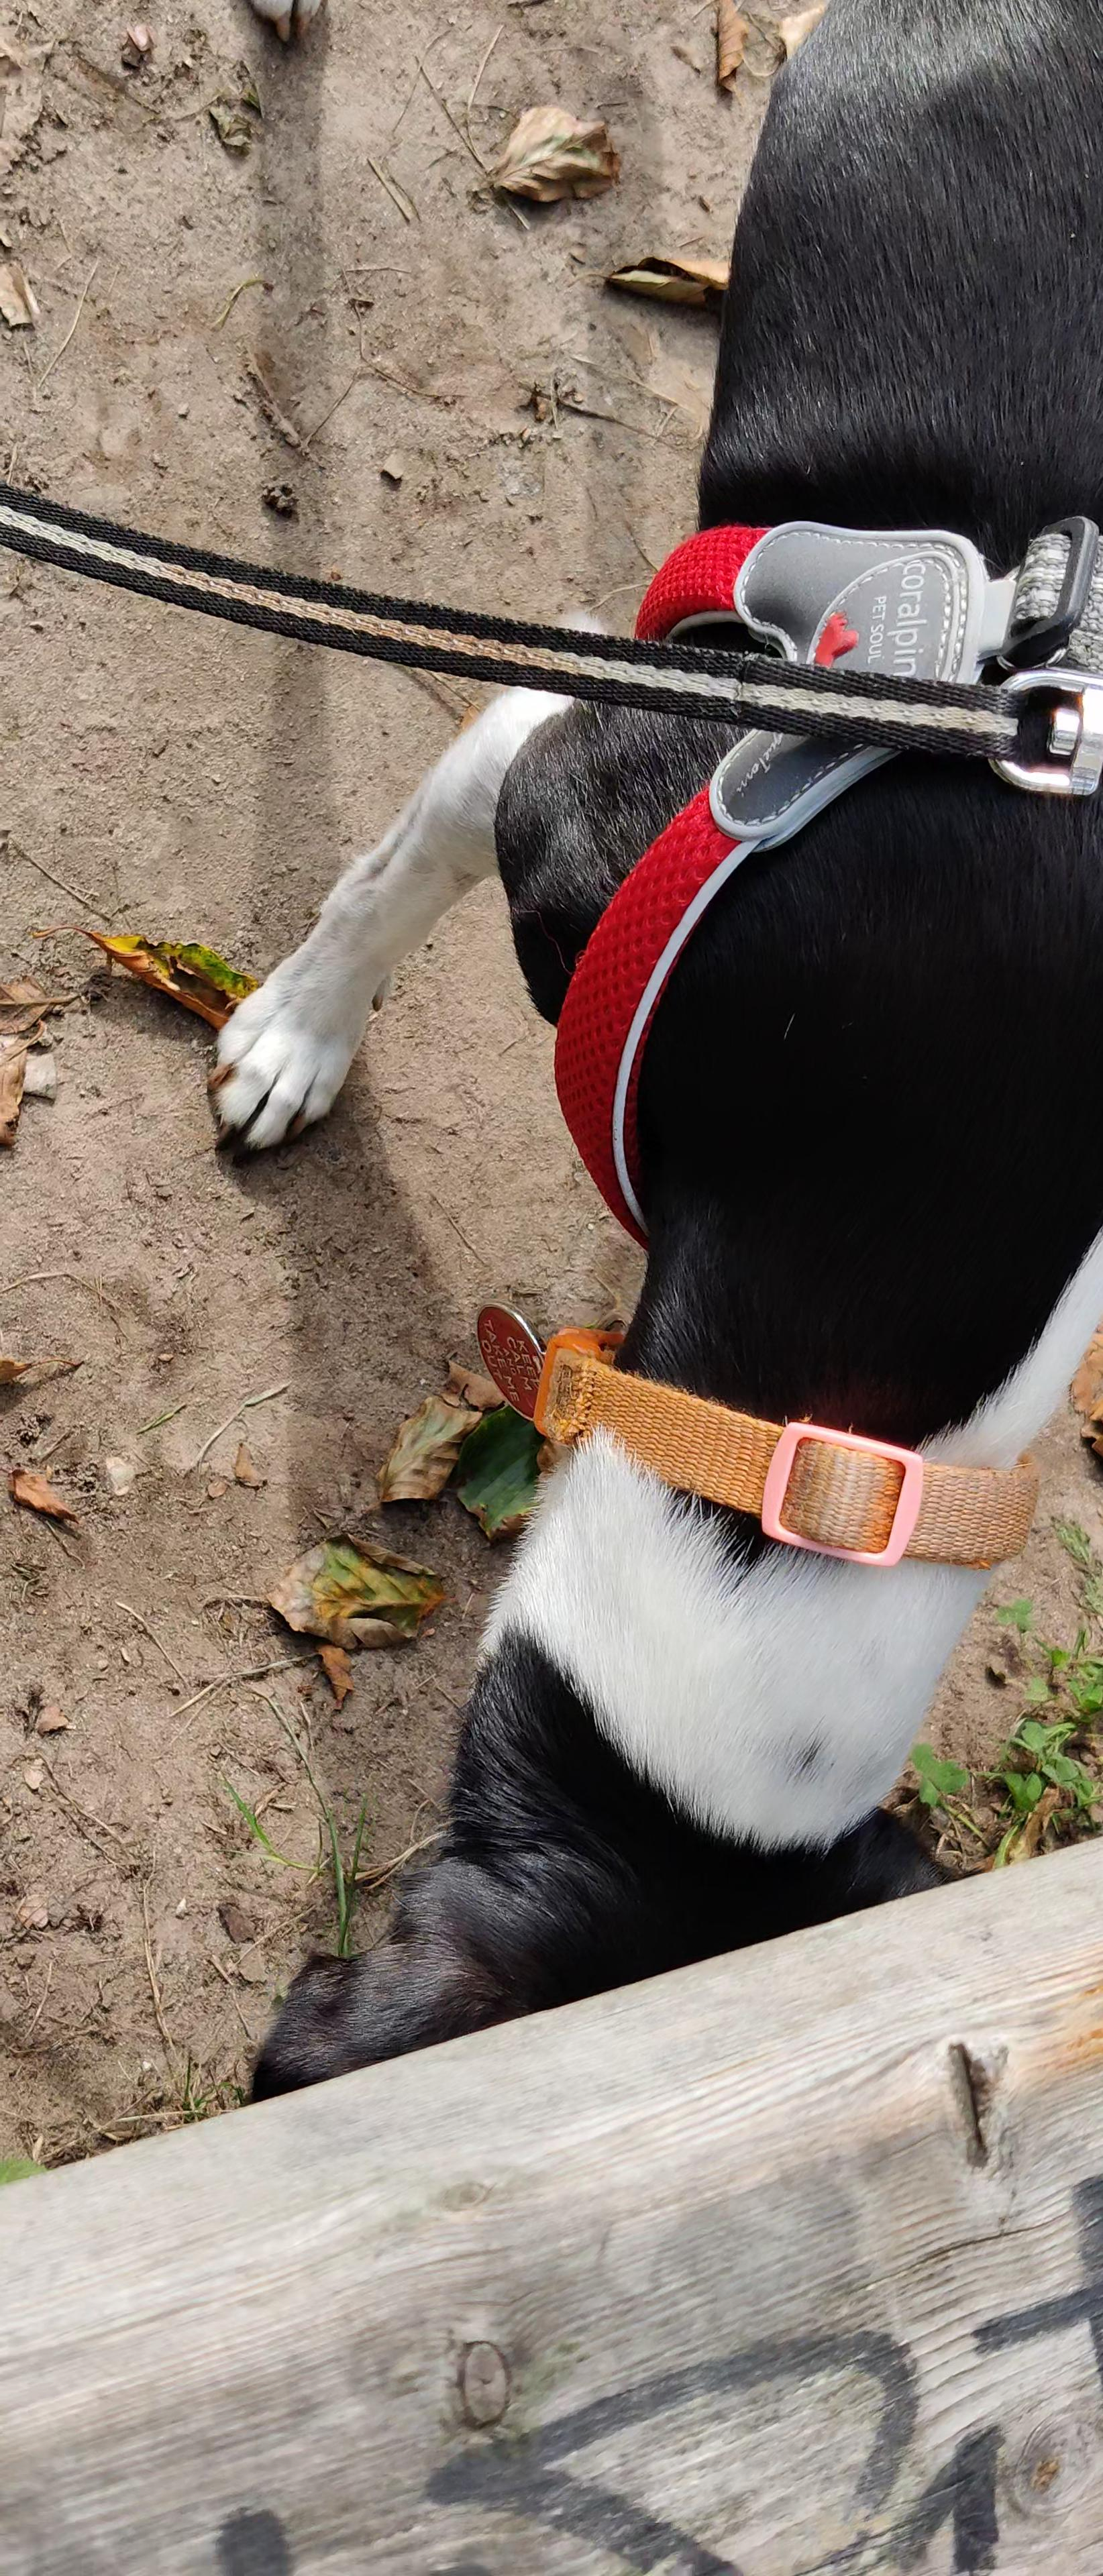Dog: (201, 0, 1103, 2155)
